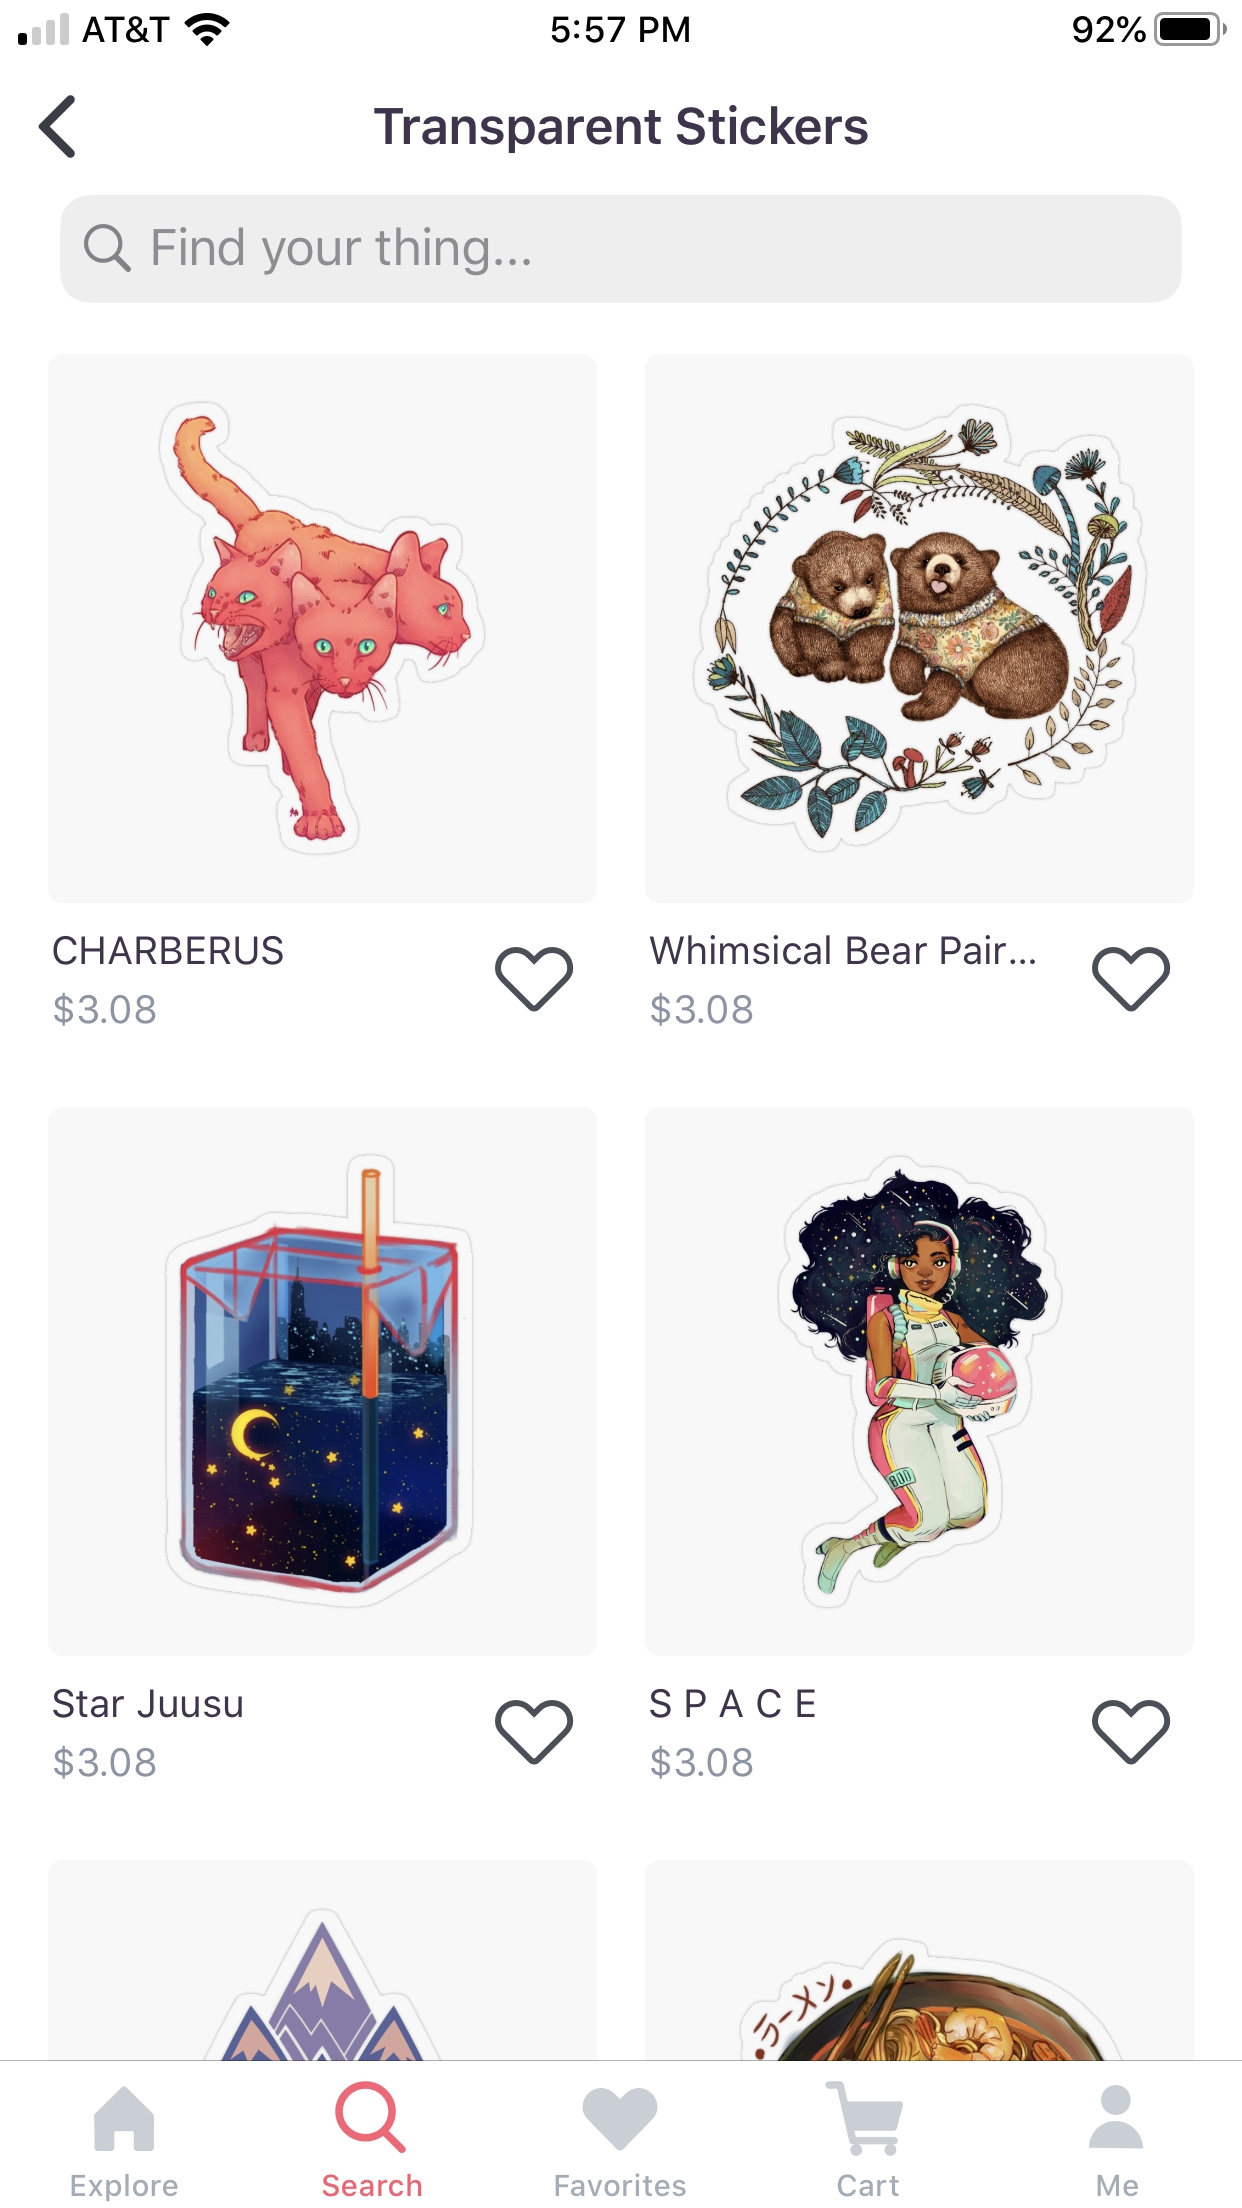EditText: (61, 196, 1183, 303)
Icon: (825, 2081, 902, 2156), (494, 1698, 575, 1765), (334, 2081, 406, 2153), (494, 946, 575, 1011), (1092, 946, 1171, 1011), (1092, 1700, 1171, 1765), (582, 2088, 658, 2150), (94, 2085, 155, 2150), (1089, 2084, 1143, 2147), (38, 96, 74, 158), (83, 224, 130, 271)
Image: (49, 1107, 597, 1656), (645, 1107, 1193, 1656), (49, 353, 597, 902), (645, 353, 1193, 902), (49, 1859, 597, 2059), (645, 1861, 1193, 2059)
Text: (375, 105, 867, 155), (153, 227, 529, 276), (649, 936, 1034, 964), (53, 936, 284, 964), (53, 1688, 243, 1718), (651, 1688, 814, 1718), (651, 992, 754, 1027), (55, 992, 156, 1027), (651, 1745, 754, 1779), (55, 1745, 156, 1779), (555, 2172, 685, 2197), (71, 2173, 177, 2202), (321, 2173, 422, 2197), (837, 2173, 899, 2196), (1096, 2175, 1137, 2196)
UpperTaskBar: (2, 2, 1242, 49)
